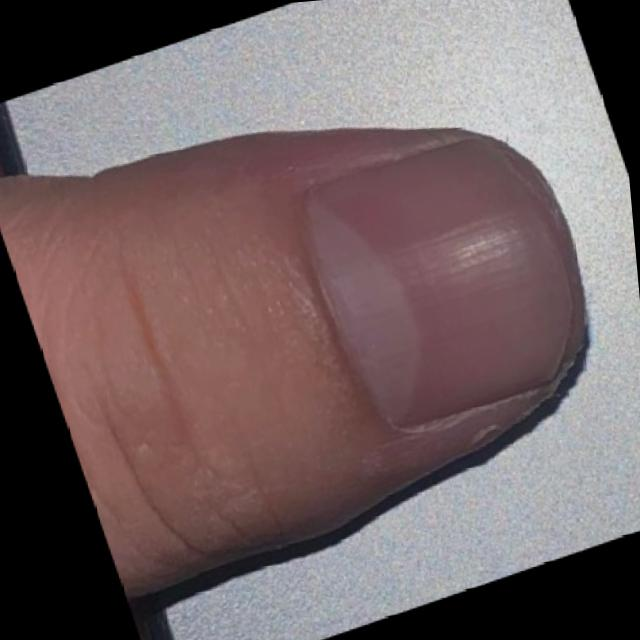Nail: (308, 140, 572, 429)
